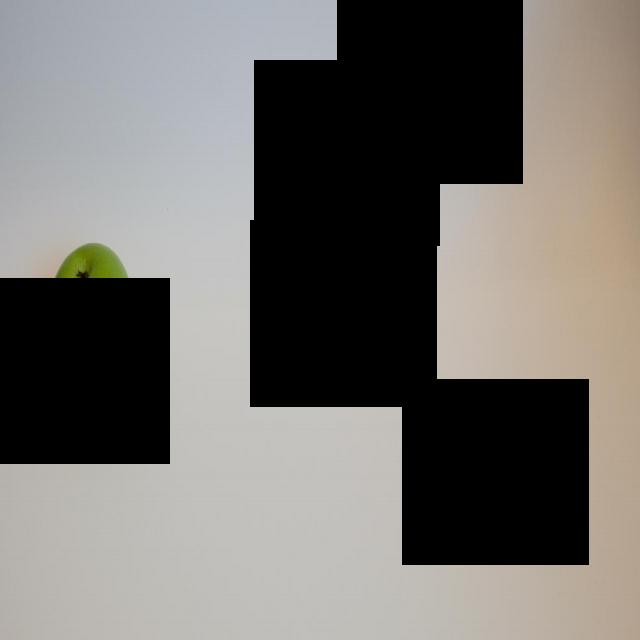apple: (46, 232, 137, 396)
